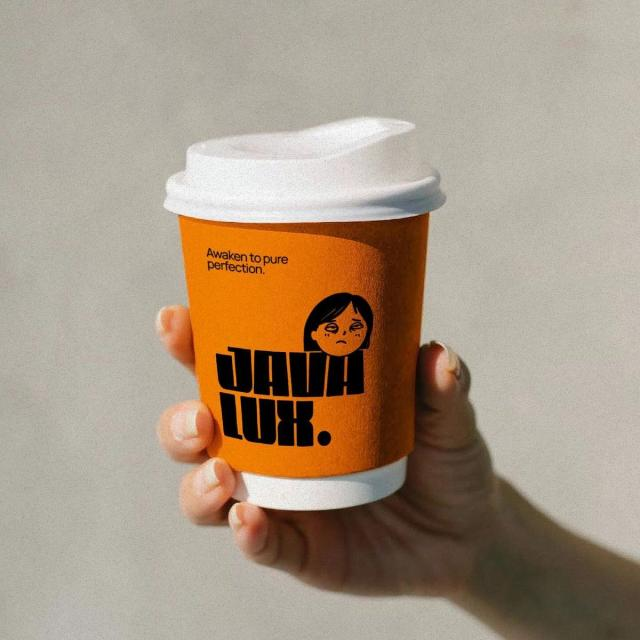paper cup: (165, 118, 446, 508)
